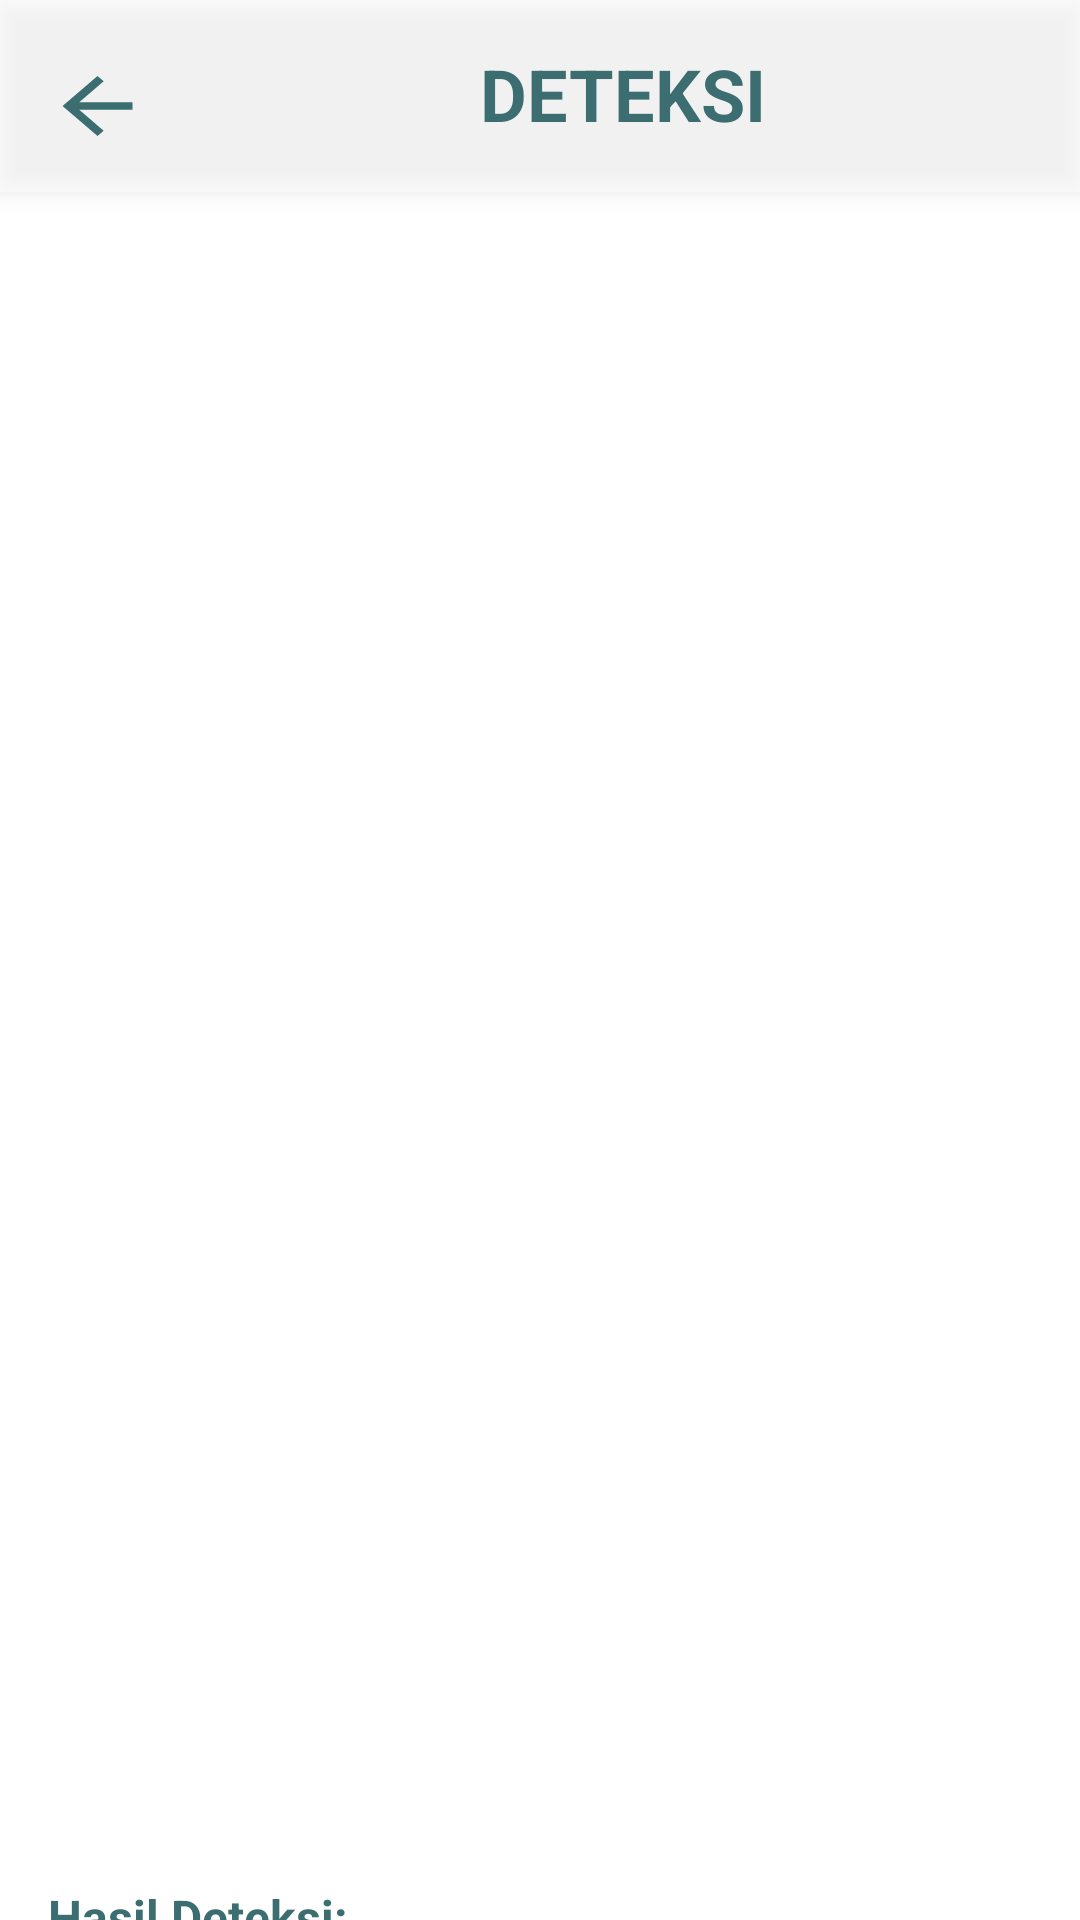

Screen size 1080px x 1920px. Icon name, then its center in pixels as (x=x, y=y):
arrow back: (x=98, y=106)
